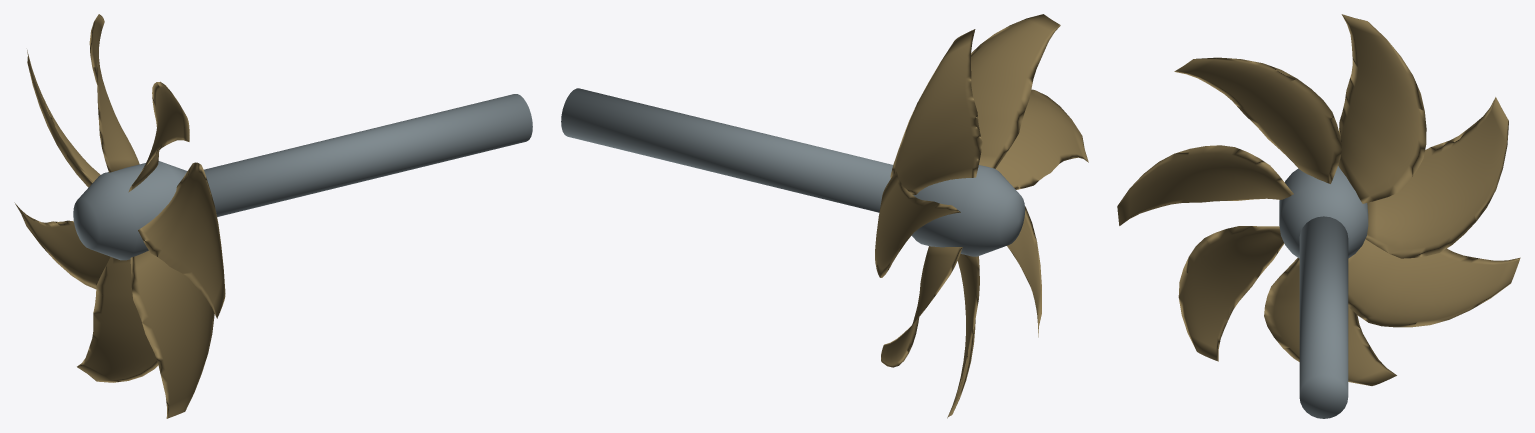
The model's file is CN_PROP_Type093_COMBINED.fbx.
3 renders of one model, left to right at view 1: azimuth 30°, elevation 25°; view 2: azimuth 150°, elevation 25°; view 3: azimuth 270°, elevation 25°, orthographic. The views are drawn at different scales.
Parts seen in each view (by area): view 1: CN_PROP_Type093.001; view 2: CN_PROP_Type093.001; view 3: CN_PROP_Type093.001.
Boxes of the visible parts, x1,y1,x2,y2 form: CN_PROP_Type093.001: (14,14,532,418); CN_PROP_Type093.001: (561,14,1088,418); CN_PROP_Type093.001: (1117,14,1520,418).
Size of the model in its own units: 538 by 430 by 434.
